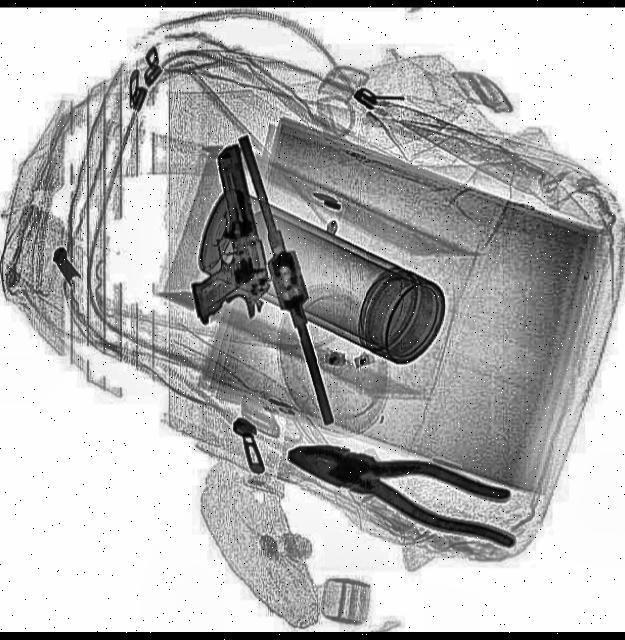Gun: (162, 144, 278, 332)
Pliers: (280, 425, 529, 552)
